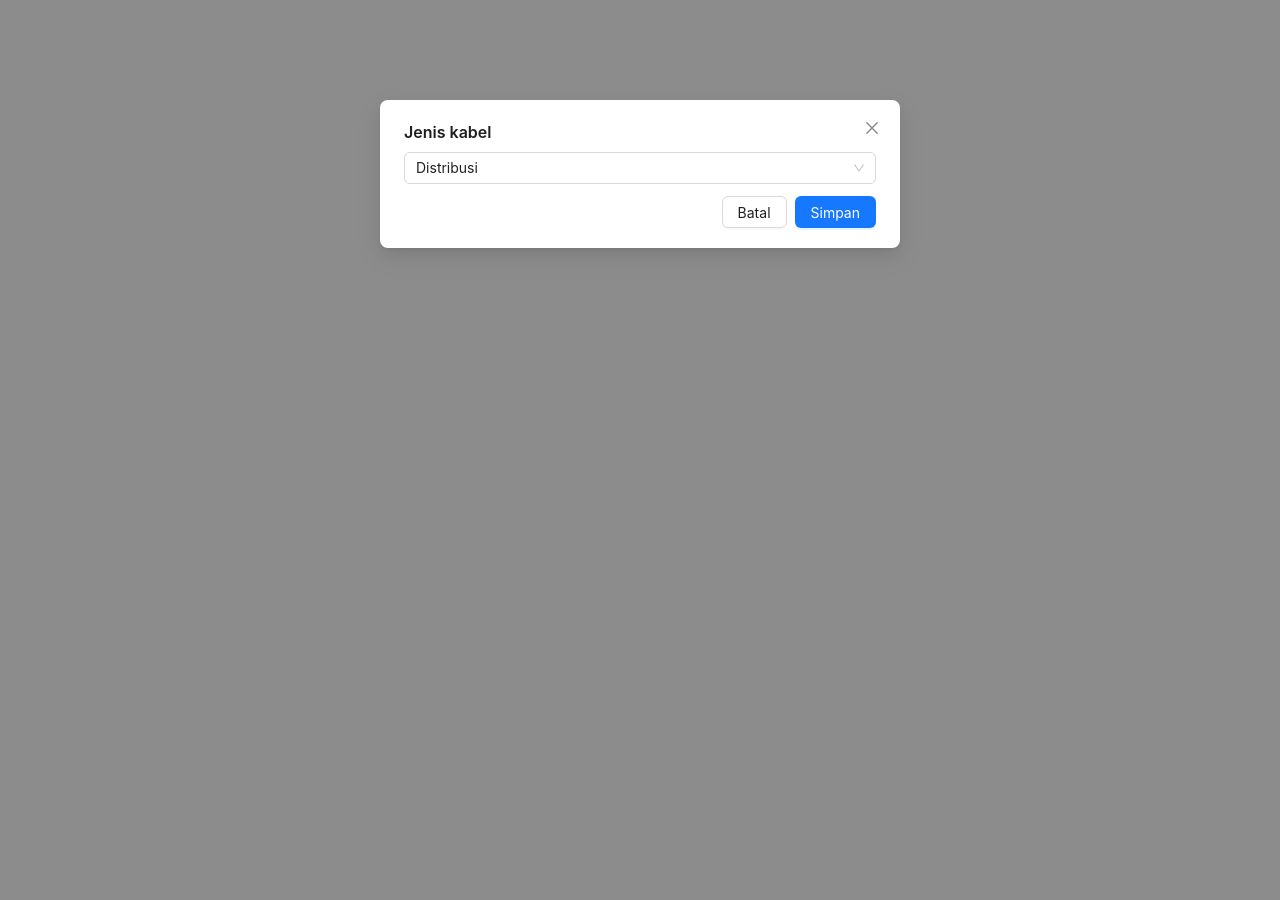
Test case: CableTypeModal › defaults to distribution but offers every one of the seven fiber types
The width and height of the screenshot is (1280, 900).
Click the dropdown labelled "Distribusi" at (447, 168), box [416,159,478,176]
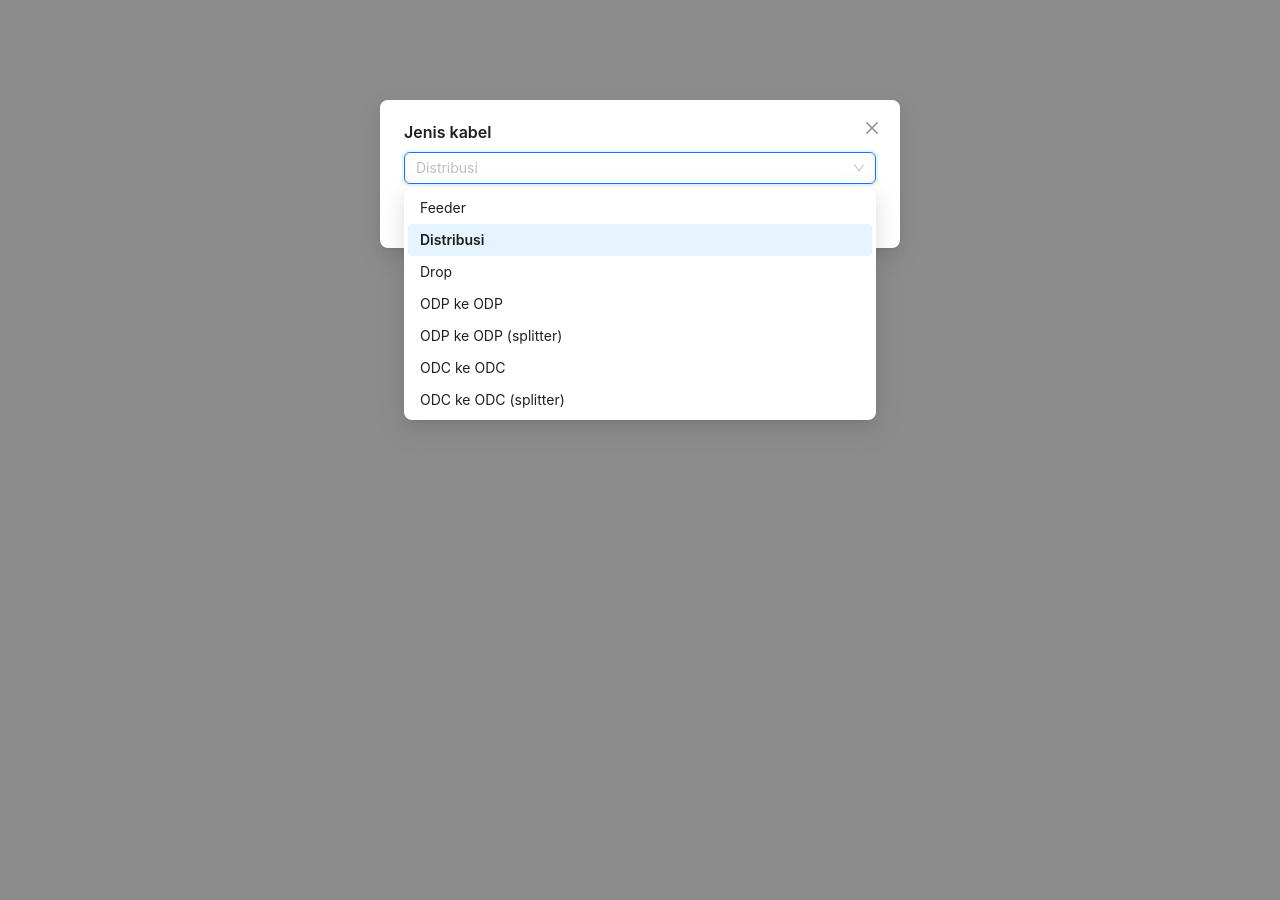
Check: the element titled "Feeder" is shown, box [420,199,466,216]
Check: the element titled "Drop" is shown, box [420,263,452,280]
Check: the element titled "ODP ke ODP" is shown, box [420,295,503,312]
